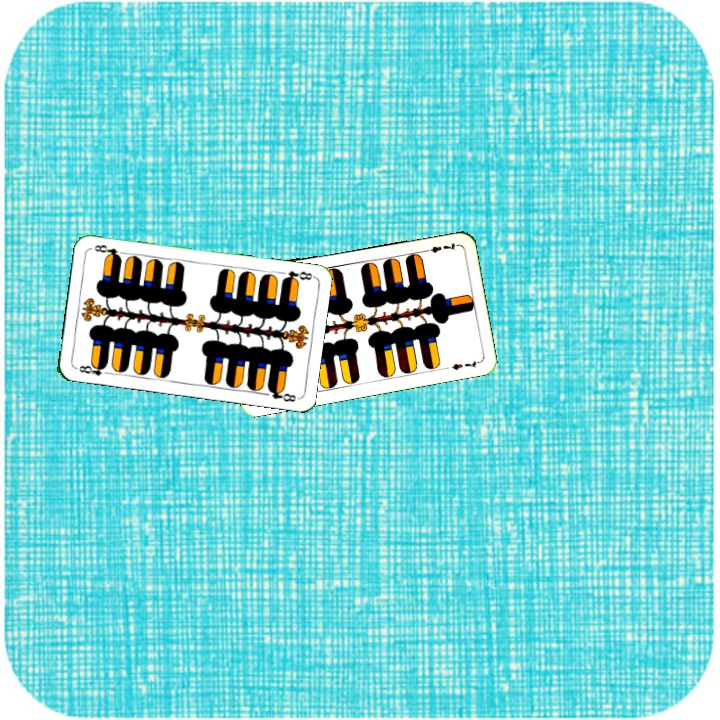E7: (419, 239, 459, 255)
E8: (72, 359, 113, 378), (278, 267, 316, 285)
